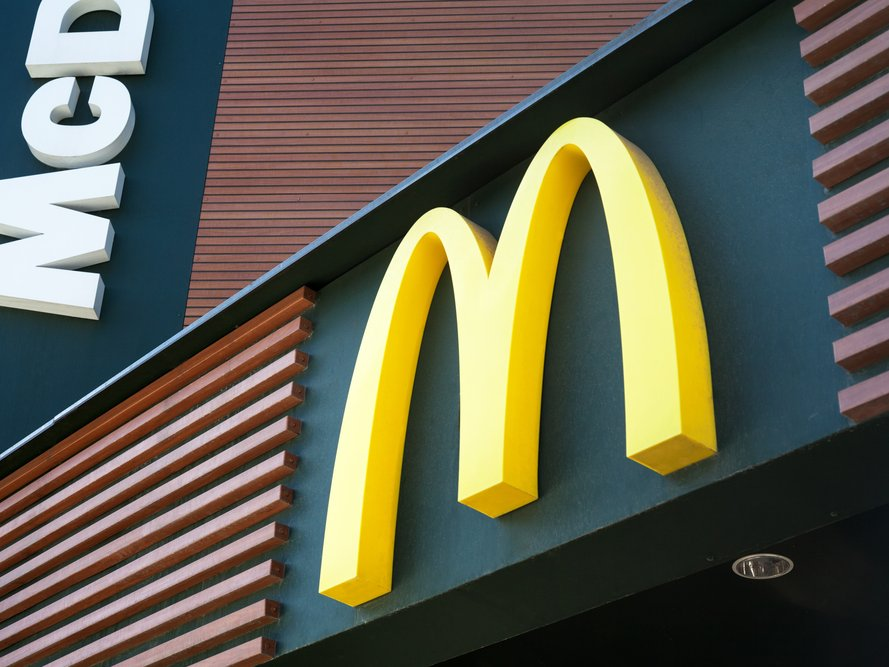mcdonalds: (305, 99, 774, 619)
